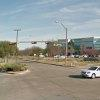Car: (76, 62, 100, 83)
